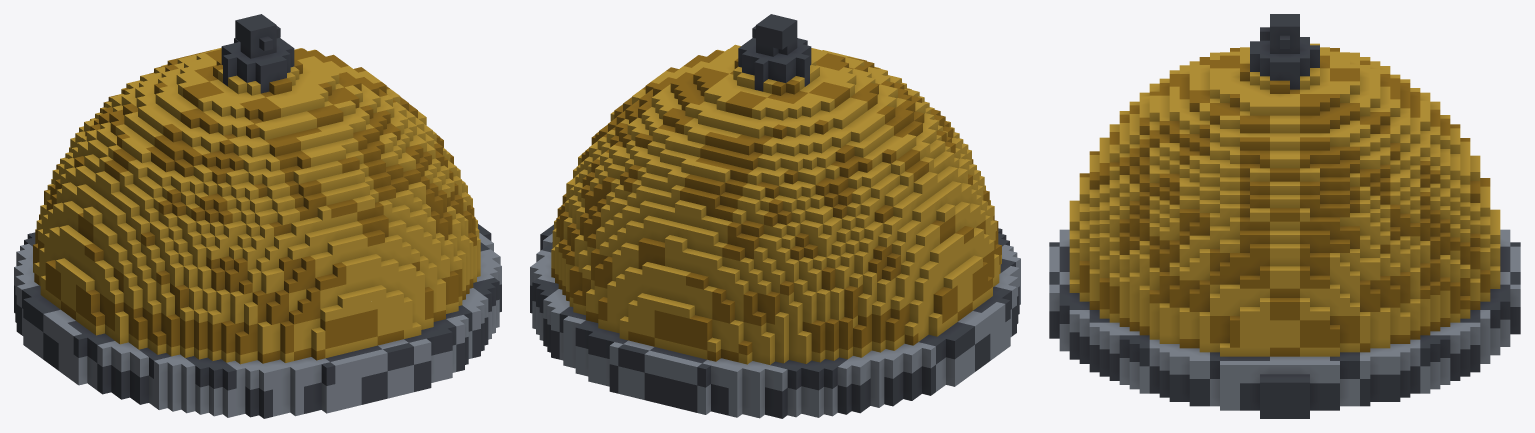
Rendered from inst_seismo.glb.
3 views of the same model, side by side, from view 1: azimuth 30°, elevation 25°; view 2: azimuth 150°, elevation 25°; view 3: azimuth 270°, elevation 25° (orthographic).
Visible parts, largest first — view 1: inst_seismo; view 2: inst_seismo; view 3: inst_seismo.
Part boxes in pixels (<box>): inst_seismo: <box>14,14,501,418</box>; inst_seismo: <box>530,14,1020,418</box>; inst_seismo: <box>1049,14,1520,418</box>.
Bounding box in the file's own units: 0.7656 × 0.5 × 0.7344.
